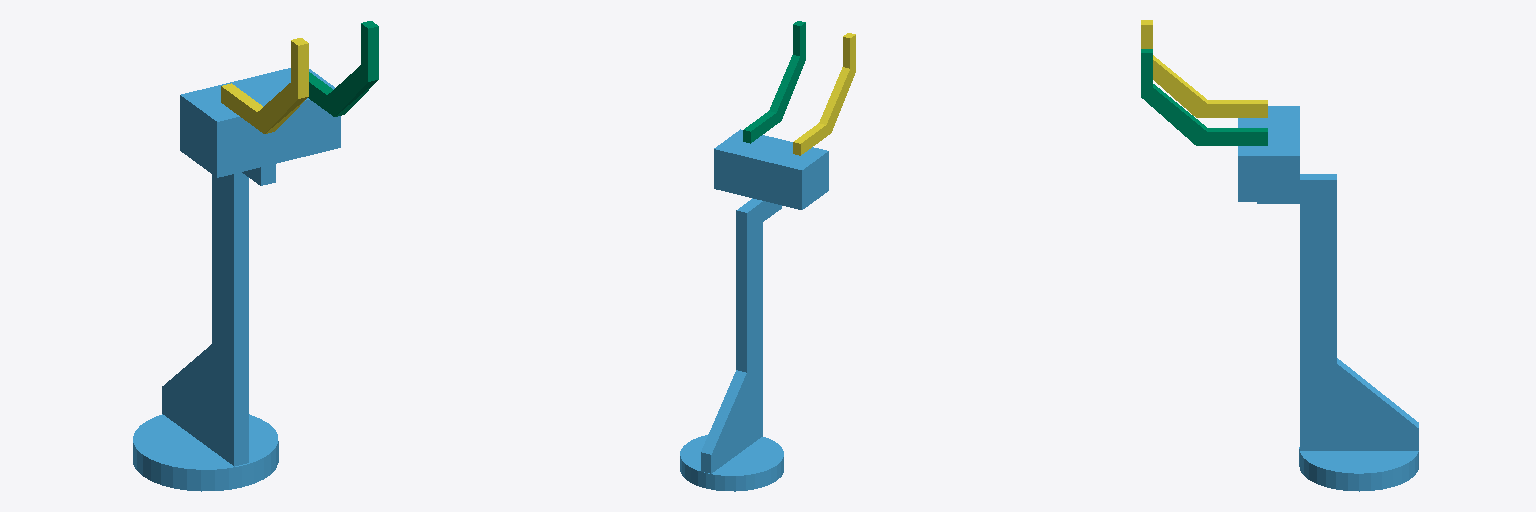
URDF robot description (universal_robot):
<?xml version="1.0" ?>
<!--FOR GRIPPER, THERE IS NO LINK INERTIA DEFINED HERE-->
<robot name="universal_robot" kind="PlaceHolder">
  <link name="placeholder">
    <visual>
      <geometry>
        <box size="0.01 0.01 0.01"/>
      </geometry>
      <material name="red">
        <color rgba="0 1 0 0.5"/>
      </material>
    </visual>
  </link>
  <joint name="joint_placeholder" type="fixed">
    <parent link="placeholder"/>
    <child link="base"/>
    <origin rpy="0 0.0 0.0" xyz="0.0 0.0 0.0"/>
    <axis xyz="0 -1 0"/>
  </joint>


  <link name="base">
  	<inertial>
       <origin rpy="0 0 0" xyz="0 0 0.00"/>
       <mass value=".01"/>
       <inertia ixx="1" ixy="0" ixz="0" iyy="1" iyz="0" izz="1"/>
    </inertial>
    <visual>
      <geometry>
        <mesh filename="base.obj"/>
      </geometry>
    </visual>
    <collision>
      <geometry>
        <mesh filename="base.obj"/>
      </geometry>
    </collision>
  </link>

  <joint name="joint_r" type="fixed">
    <parent link="base"/>
    <child link="finger_r"/>
    <origin rpy="0 0 0" xyz="0.02 -0.065 0.265"/>
    <limit effort="20" lower="0.00" upper="0.01" velocity="0.2"/>
  </joint>
    <link name="finger_r">
  	<inertial>
       <origin rpy="0 0 0" xyz="0 0 0.00"/>
       <mass value=".01"/>
       <inertia ixx="1" ixy="0" ixz="0" iyy="1" iyz="0" izz="1"/>
    </inertial>
    <visual>
      <geometry>
        <mesh filename="finger_r.obj"/>
      </geometry>
    </visual>
    <collision>
      <geometry>
        <mesh filename="finger_r.obj"/>
      </geometry>
    </collision>
  </link>
  

  <joint name="joint_l" type="fixed">
    <parent link="base"/>
    <child link="finger_l"/>
    <origin rpy="0 0 0" xyz="-0.02 -0.065 0.265"/>
    <limit effort="20" lower="0.00" upper="0.01" velocity="0.2"/>
  </joint>


  <link name="finger_l">
  	<inertial>
       <origin rpy="0 0 0" xyz="0 0 0.00"/>
       <mass value=".01"/>
       <inertia ixx="1" ixy="0" ixz="0" iyy="1" iyz="0" izz="1"/>
    </inertial>
    <visual>
      <geometry>
        <mesh filename="finger_l.obj"/>
      </geometry>
    </visual>
    <collision>
      <geometry>
        <mesh filename="finger_l.obj"/>
      </geometry>
    </collision>
  </link>

  <joint name="joint_ee" type="fixed">
    <parent link="base"/>
    <child link="ee"/>
    <origin rpy="0 0 0" xyz="0.0 -0.15 0.32"/>
    <limit effort="20" lower="0.00" upper="0.01" velocity="0.2"/>
  </joint>
  <link name="ee">
    <inertial>
      <origin rpy="0 0 0" xyz="0 0 0.0"/>
      <mass value=".01"/>
      <inertia ixx="1" ixy="0" ixz="0" iyy="1" iyz="0" izz="1"/>
   </inertial>
  </link>
</robot>

--- Render facts (derived) ---
Views: 3 orthographic renders of the robot side by side, from view 1: azimuth 30°, elevation 25°; view 2: azimuth 150°, elevation 25°; view 3: azimuth 270°, elevation 25°.
Robot: universal_robot — 5 links, 4 joints (4 fixed); root link placeholder; default pose: every joint at zero.
Visible links, largest first — view 1: base, finger_l, finger_r; view 2: base, finger_r, finger_l; view 3: base, finger_r, finger_l.
Link boxes in pixels (left/top/right/bottom): base: left=133, top=68, right=340, bottom=491; finger_l: left=221, top=38, right=308, bottom=133; finger_r: left=308, top=21, right=378, bottom=116; base: left=680, top=129, right=828, bottom=491; finger_r: left=743, top=21, right=805, bottom=143; finger_l: left=793, top=33, right=855, bottom=155; base: left=1238, top=106, right=1418, bottom=491; finger_r: left=1141, top=49, right=1267, bottom=145; finger_l: left=1141, top=20, right=1267, bottom=117.
Size in the robot's own frame: 0.0852 by 0.1979 by 0.343 metres.
Meshes: 3 distinct files referenced, 3 mesh visuals loaded (3 OBJ).